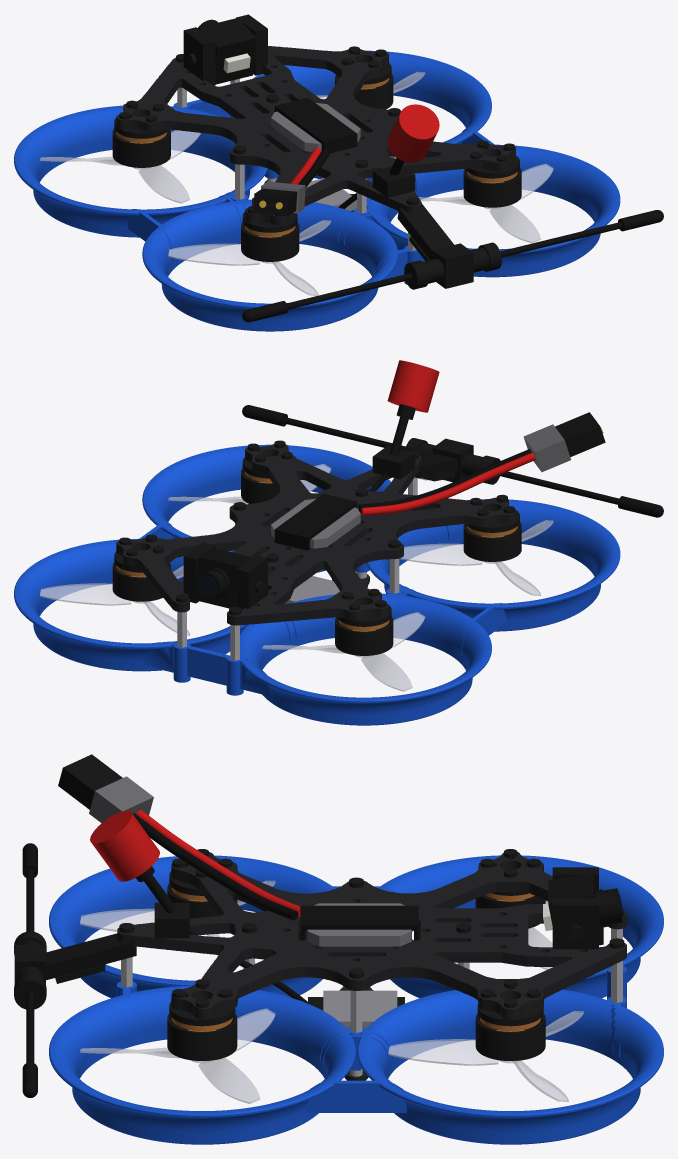
File: drone.obj
3 views of the same model, one above another, from view 1: azimuth 30°, elevation 25°; view 2: azimuth 150°, elevation 25°; view 3: azimuth 270°, elevation 25° (orthographic). The views are drawn at different scales.
Visible parts, largest first — view 1: AIO_FlightController; view 2: AIO_FlightController; view 3: AIO_FlightController.
Part boxes in pixels (left/top/right/bottom): AIO_FlightController: left=14, top=14, right=663, bottom=331; AIO_FlightController: left=14, top=360, right=663, bottom=725; AIO_FlightController: left=14, top=754, right=663, bottom=1144.
Size of the model in its own units: 0.2883 by 0.115 by 0.3047.
